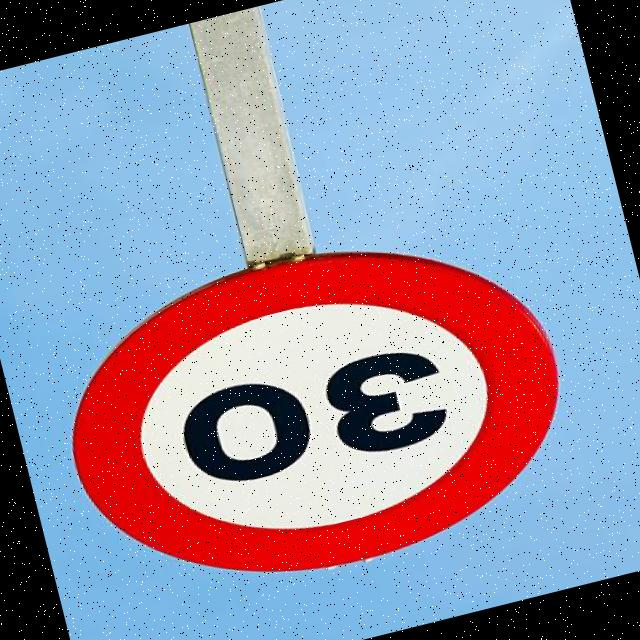speed_limit_30: (0, 184, 595, 635)
